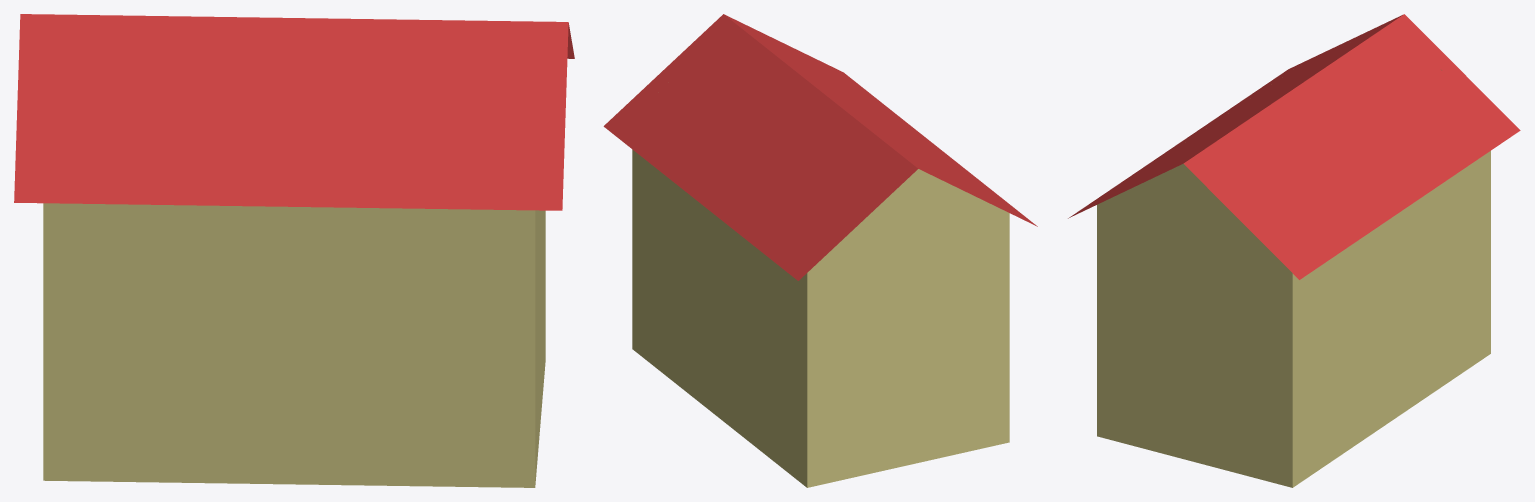
3 views of the same model, side by side, from view 1: azimuth 30°, elevation 25°; view 2: azimuth 150°, elevation 25°; view 3: azimuth 270°, elevation 25° (orthographic). The views are drawn at different scales.
Parts seen in each view (by area): view 1: group_5, group_3, group_4; view 2: group_5, group_3, group_4; view 3: group_5, group_3, group_4.
Part boxes in pixels (<box>): group_5: <box>43,203,545,487</box>; group_3: <box>14,14,574,210</box>; group_4: <box>14,14,568,210</box>; group_5: <box>632,149,1009,487</box>; group_3: <box>632,14,1008,275</box>; group_4: <box>603,14,1037,280</box>; group_5: <box>1097,70,1490,487</box>; group_3: <box>1068,15,1490,276</box>; group_4: <box>1069,14,1520,279</box>.
Size of the model in its own units: 23.26 by 21.13 by 15.74.
